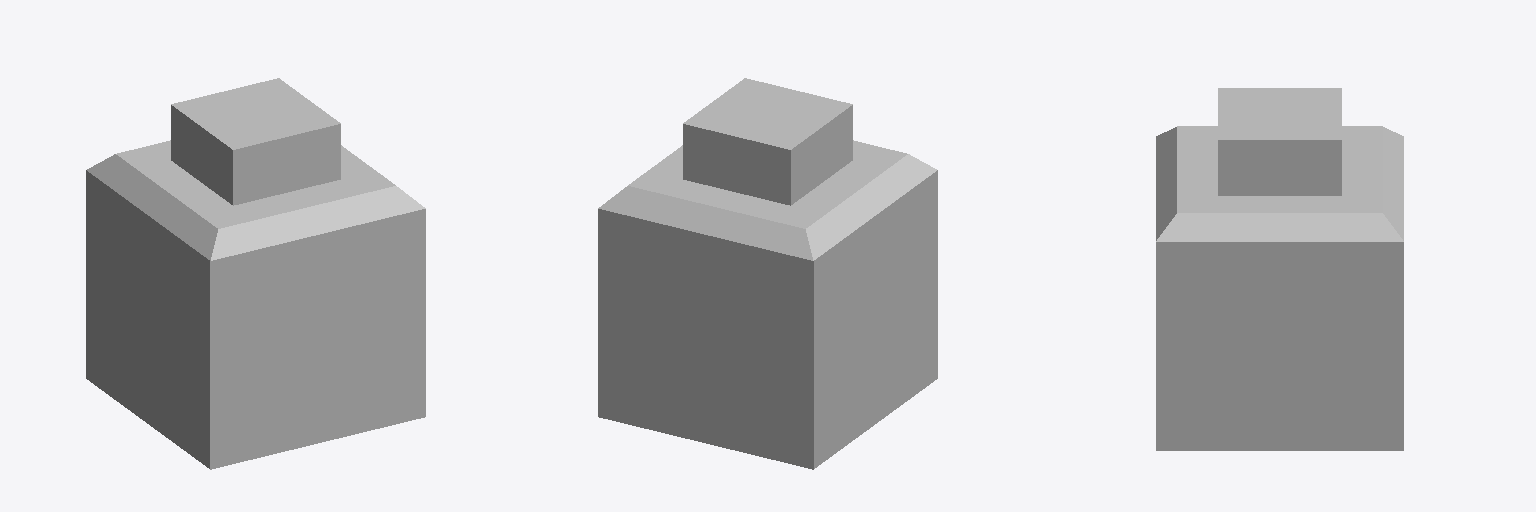
Rendered from block.obj.
The picture shows the model from 3 angles: view 1: azimuth 30°, elevation 25°; view 2: azimuth 150°, elevation 25°; view 3: azimuth 270°, elevation 25°; orthographic projection.
Visible parts, largest first — view 1: Cylinder; view 2: Cylinder; view 3: Cylinder.
Part boxes in pixels (bbox=[...]): Cylinder: bbox=[86, 78, 425, 469]; Cylinder: bbox=[598, 78, 937, 469]; Cylinder: bbox=[1156, 88, 1403, 450].
Bounding box in the file's own units: 1.41 × 1.78 × 1.41.